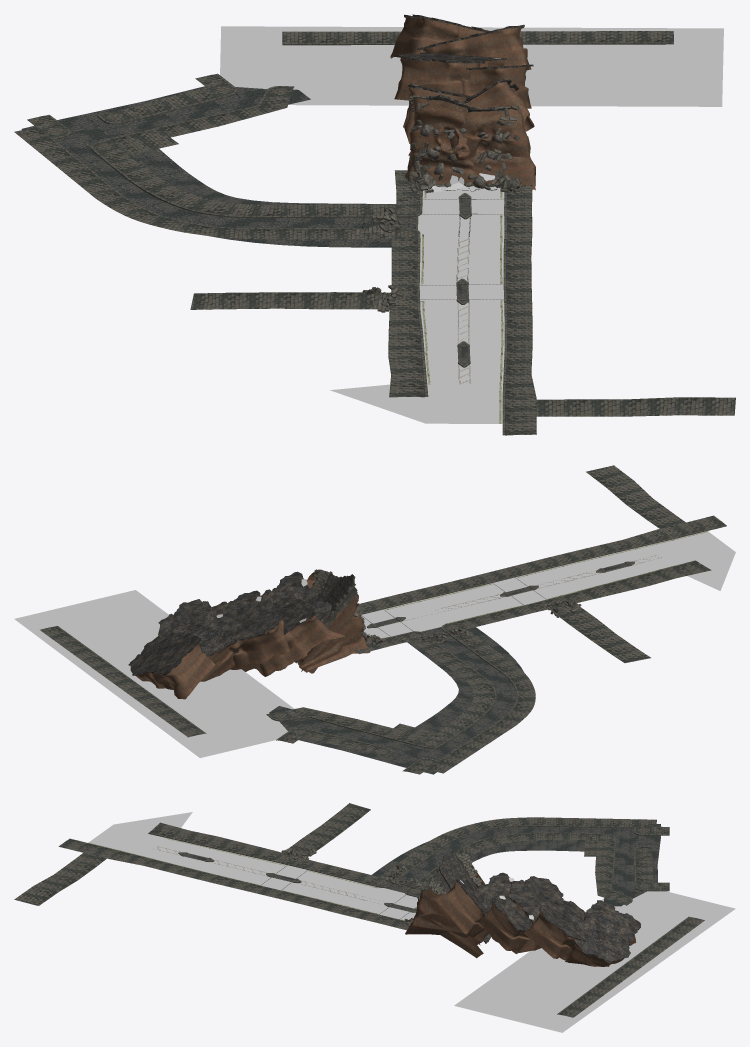
3 views of the same model, one above another, from view 1: azimuth 30°, elevation 25°; view 2: azimuth 150°, elevation 25°; view 3: azimuth 270°, elevation 25° (orthographic). The views are drawn at different scales.
Visible parts, largest first — view 1: LOD_1_Group_0_Sub_4__m02_pavement04_A_mat, LOD_1_Group_0_Sub_1__m02_pavement01, LOD_1_Group_0_Sub_7__l02_cliff_mat, LOD_1_Group_0_Sub_6__m02_pavement02_A_mat, LOD_1_Group_0_Sub_2__m02_asphalt02, LOD_1_Group_0_Sub_3__m02_pavement05, LOD_1_Group_0_Sub_5__m02_rock01; view 2: LOD_1_Group_0_Sub_1__m02_pavement01, LOD_1_Group_0_Sub_4__m02_pavement04_A_mat, LOD_1_Group_0_Sub_2__m02_asphalt02, LOD_1_Group_0_Sub_7__l02_cliff_mat, LOD_1_Group_0_Sub_6__m02_pavement02_A_mat, LOD_1_Group_0_Sub_3__m02_pavement05; view 3: LOD_1_Group_0_Sub_1__m02_pavement01, LOD_1_Group_0_Sub_4__m02_pavement04_A_mat, LOD_1_Group_0_Sub_2__m02_asphalt02, LOD_1_Group_0_Sub_7__l02_cliff_mat, LOD_1_Group_0_Sub_6__m02_pavement02_A_mat, LOD_1_Group_0_Sub_3__m02_pavement05.
Boxes of the visible parts, x1,y1,x2,y2 form: LOD_1_Group_0_Sub_4__m02_pavement04_A_mat: [220, 26, 723, 423]; LOD_1_Group_0_Sub_1__m02_pavement01: [14, 31, 735, 435]; LOD_1_Group_0_Sub_7__l02_cliff_mat: [390, 17, 535, 190]; LOD_1_Group_0_Sub_6__m02_pavement02_A_mat: [21, 86, 469, 364]; LOD_1_Group_0_Sub_2__m02_asphalt02: [398, 14, 533, 191]; LOD_1_Group_0_Sub_3__m02_pavement05: [420, 188, 503, 423]; LOD_1_Group_0_Sub_5__m02_rock01: [407, 124, 508, 188]; LOD_1_Group_0_Sub_1__m02_pavement01: [40, 465, 726, 774]; LOD_1_Group_0_Sub_4__m02_pavement04_A_mat: [14, 531, 735, 757]; LOD_1_Group_0_Sub_2__m02_asphalt02: [128, 571, 369, 675]; LOD_1_Group_0_Sub_7__l02_cliff_mat: [136, 572, 370, 699]; LOD_1_Group_0_Sub_6__m02_pavement02_A_mat: [269, 562, 631, 774]; LOD_1_Group_0_Sub_3__m02_pavement05: [361, 531, 708, 638]; LOD_1_Group_0_Sub_1__m02_pavement01: [14, 803, 704, 1017]; LOD_1_Group_0_Sub_4__m02_pavement04_A_mat: [88, 812, 735, 1032]; LOD_1_Group_0_Sub_2__m02_asphalt02: [433, 853, 640, 964]; LOD_1_Group_0_Sub_7__l02_cliff_mat: [405, 866, 639, 966]; LOD_1_Group_0_Sub_6__m02_pavement02_A_mat: [181, 824, 660, 911]; LOD_1_Group_0_Sub_3__m02_pavement05: [88, 838, 416, 920].
Size of the model in its own units: 9977 by 1589 by 13311.
